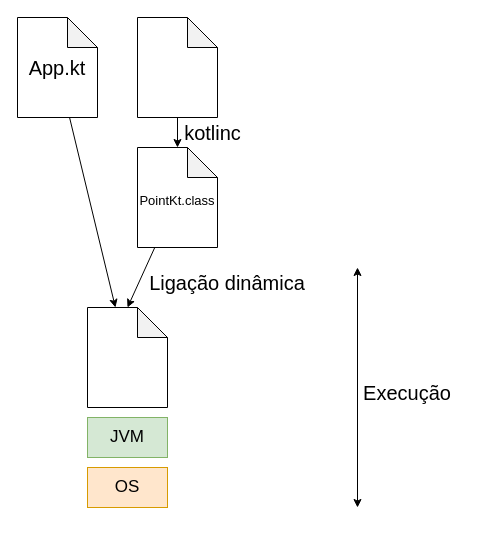
The diagram is 485 pixels wide and 534 high, and some of its shapes have lost their labels. Each missing label, with the centre of its shape:
AppKt.class: point (127, 357)
Point.kt: point (177, 67)
